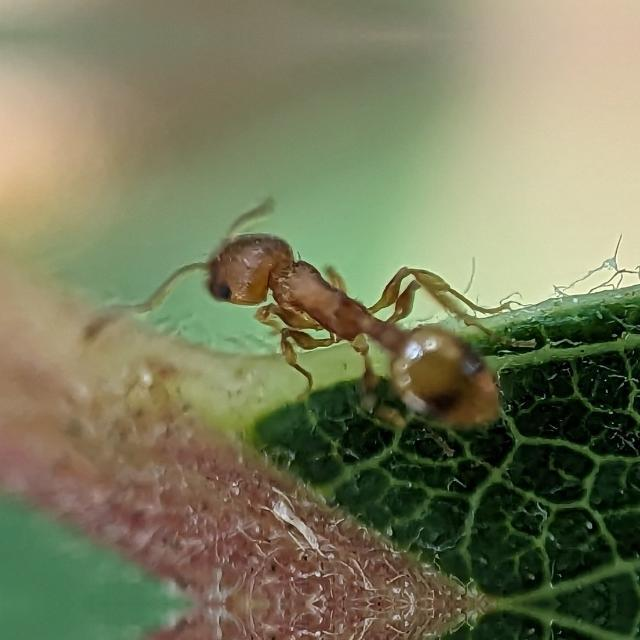Tetramorium: (176, 192, 526, 448)
